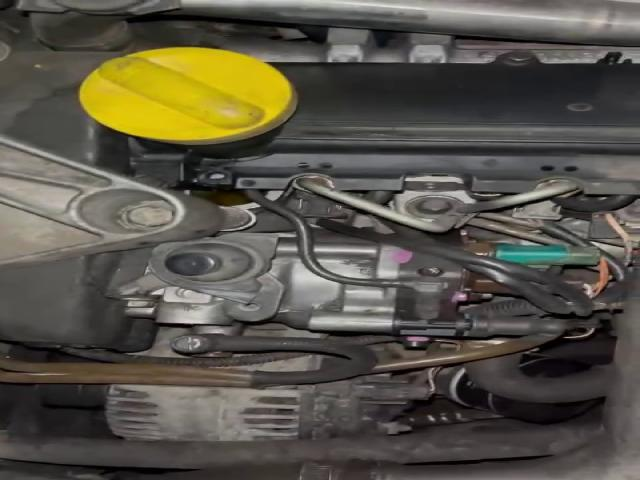alternator: (105, 373, 435, 441)
high_pressure_pump: (155, 231, 502, 351)
